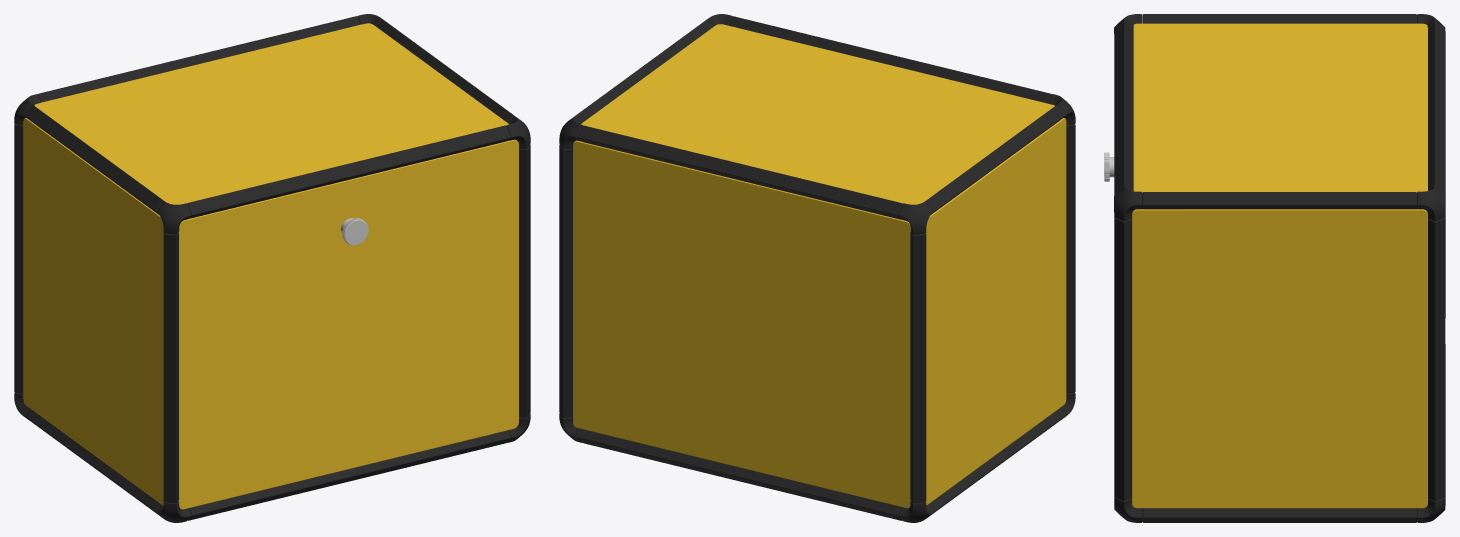
The picture shows the model from 3 angles, left to right: view 1: azimuth 30°, elevation 25°; view 2: azimuth 150°, elevation 25°; view 3: azimuth 270°, elevation 25°; orthographic projection. The views are drawn at different scales.
Parts seen in each view (by area): view 1: 523x374x420; view 2: 523x374x420; view 3: 523x374x420.
Part boxes in pixels (x1,y1,x2,y2): 523x374x420: (14,14,530,522); 523x374x420: (559,14,1075,522); 523x374x420: (1104,14,1445,522).
Bounding box in the file's own units: 0.6007 × 0.4976 × 0.4646.
